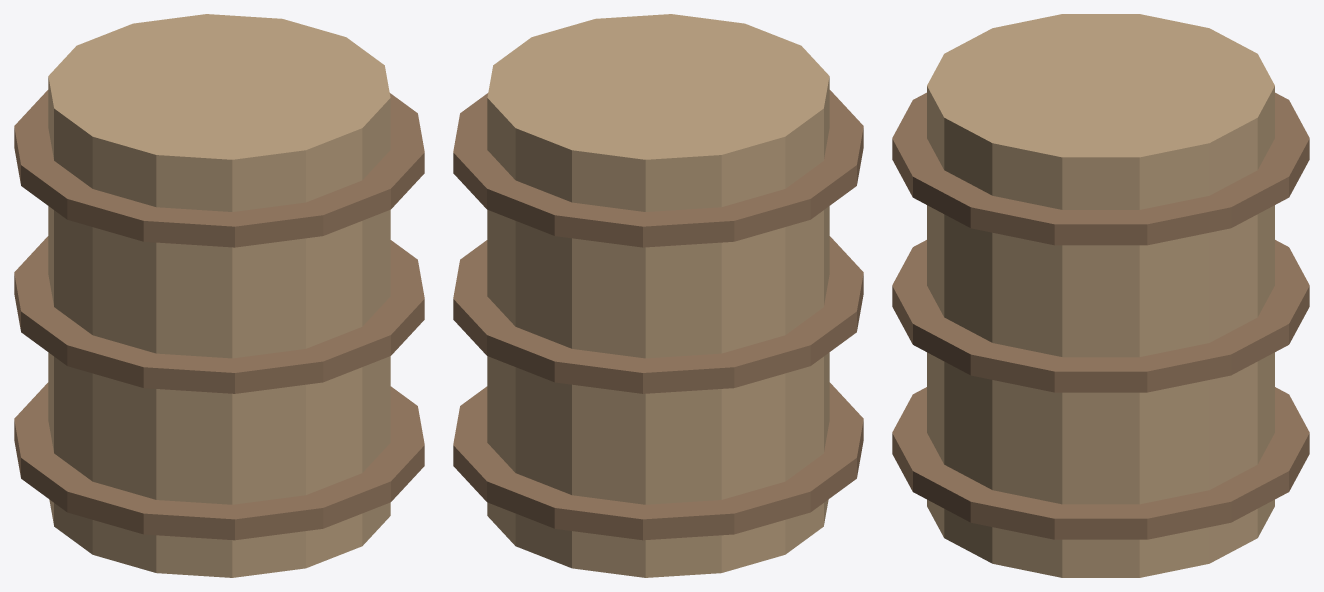
Rendered from chibi_barrel.glb.
3 renders of one model, left to right at view 1: azimuth 30°, elevation 25°; view 2: azimuth 150°, elevation 25°; view 3: azimuth 270°, elevation 25°, orthographic.
Parts seen in each view (by area): view 1: ChibiBarrel; view 2: ChibiBarrel; view 3: ChibiBarrel.
Part boxes in pixels (bbox=[...]): ChibiBarrel: bbox=[14, 14, 424, 577]; ChibiBarrel: bbox=[453, 14, 863, 577]; ChibiBarrel: bbox=[892, 14, 1309, 577].
Bounding box in the file's own units: 0.7019 × 0.8 × 0.72.
